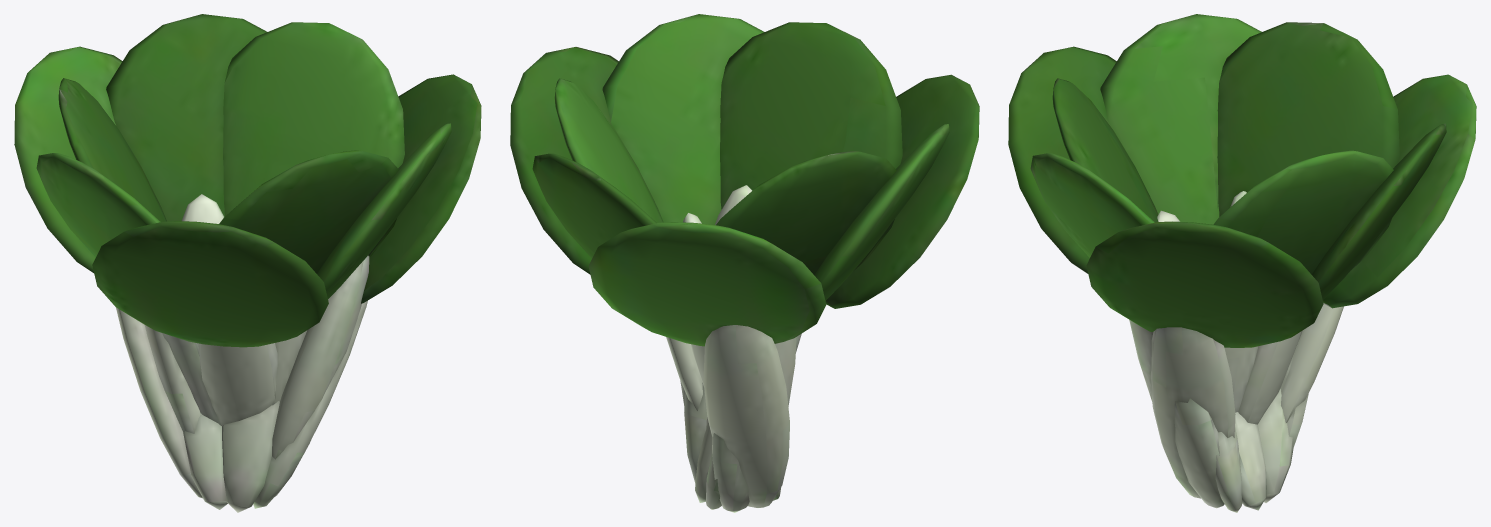
Rendered from crop_bok_choy.glb.
3 views of the same model, side by side, from view 1: azimuth 30°, elevation 25°; view 2: azimuth 150°, elevation 25°; view 3: azimuth 270°, elevation 25° (orthographic).
Parts seen in each view (by area): view 1: crop_bok_choy, fruit; view 2: crop_bok_choy, fruit; view 3: crop_bok_choy, fruit.
Part boxes in pixels (x1,y1,x2,y2): crop_bok_choy: (14,14,481,347); fruit: (116,194,369,512); crop_bok_choy: (510,14,979,346); fruit: (666,185,801,512); crop_bok_choy: (1008,14,1476,347); fruit: (1129,191,1343,512).
Bounding box in the file's own units: 0.1741 × 0.1701 × 0.1759.
1 material, 1 textured.
